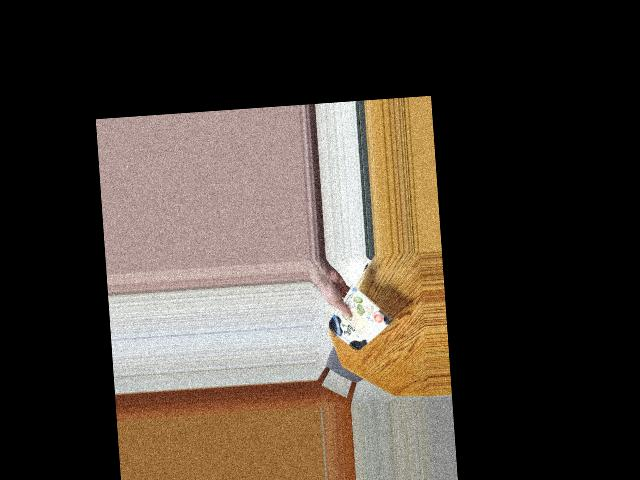cheese: (326, 295, 385, 346)
